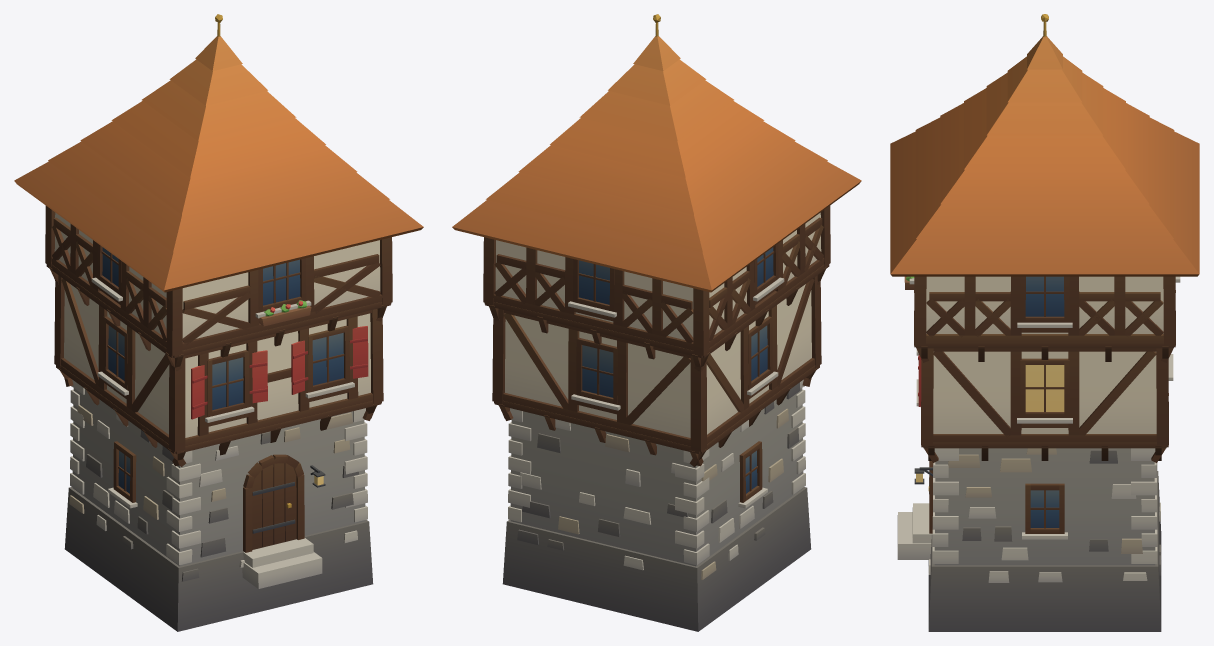
The model's file is house_15_tower_house.glb.
3 views of the same model, side by side, from view 1: azimuth 30°, elevation 25°; view 2: azimuth 150°, elevation 25°; view 3: azimuth 270°, elevation 25° (orthographic). The views are drawn at different scales.
Parts seen in each view (by area): view 1: house_15_tower_house; view 2: house_15_tower_house; view 3: house_15_tower_house.
Boxes of the visible parts, <box> form: house_15_tower_house: <box>14,14,423,631</box>; house_15_tower_house: <box>452,14,861,631</box>; house_15_tower_house: <box>890,14,1199,631</box>.
Bounding box in the file's own units: 24.5 × 49.72 × 24.5.
Materials: 1 (1 with a texture image).
